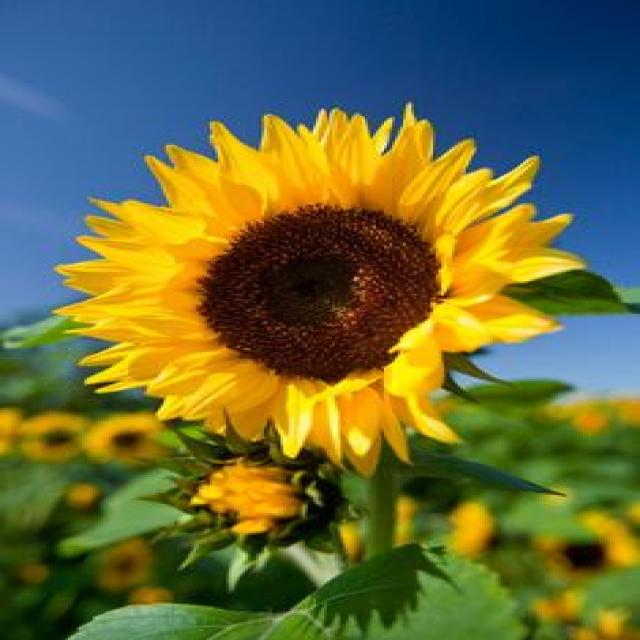sunflower: (49, 104, 591, 472), (538, 515, 639, 586), (11, 404, 106, 464), (86, 406, 170, 466)
